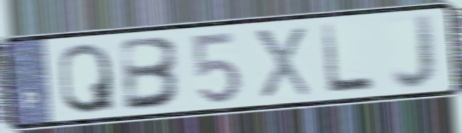5: (188, 28, 245, 106)
B: (119, 34, 185, 114)
J: (388, 11, 439, 93)
L: (318, 20, 378, 97)
Q: (57, 40, 118, 117)
X: (250, 23, 315, 101)
